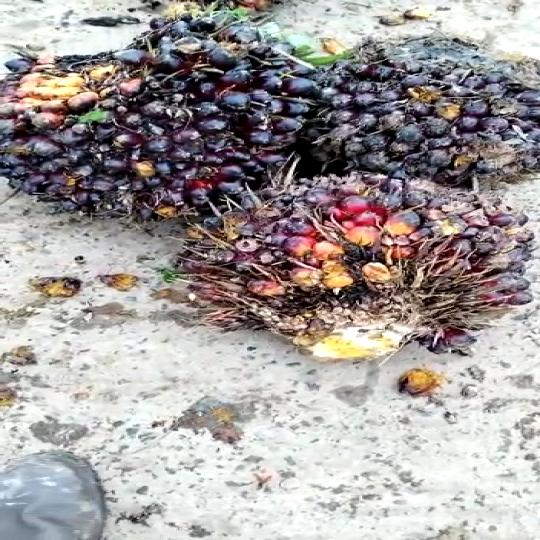kurang masak: (203, 161, 540, 375), (0, 21, 342, 191), (320, 32, 540, 194)
